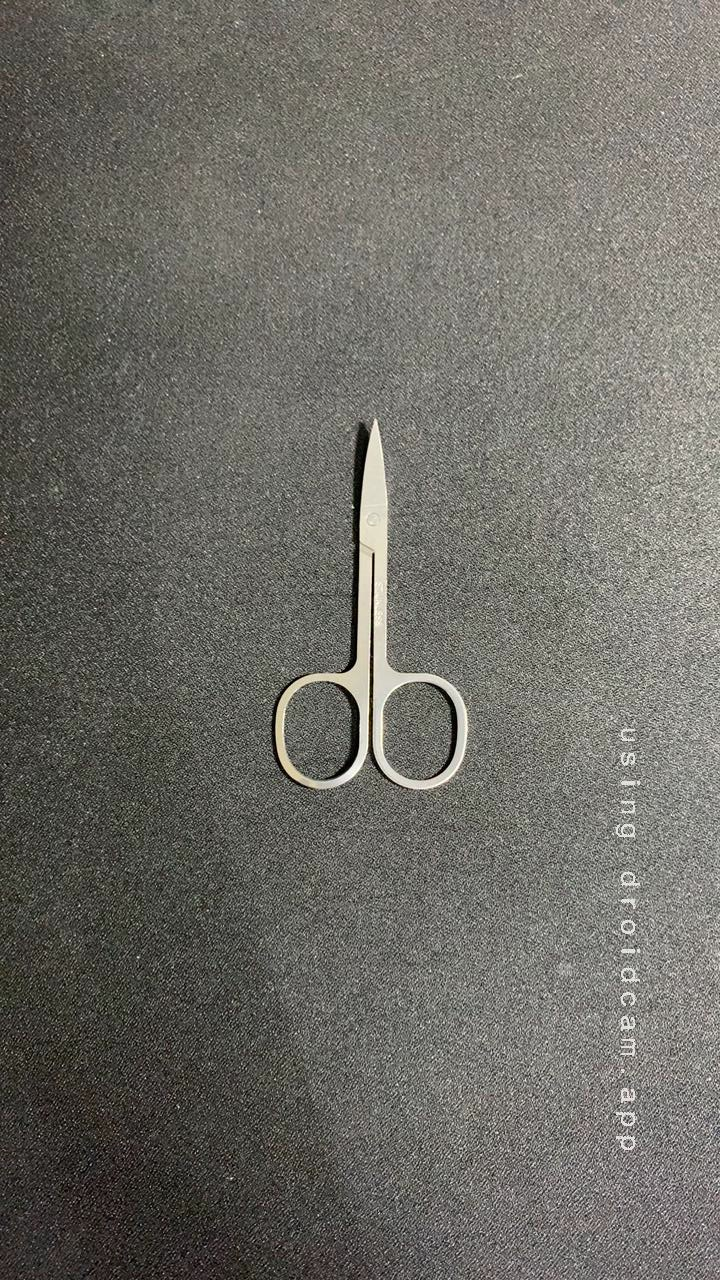scissor: (238, 412, 490, 805)
